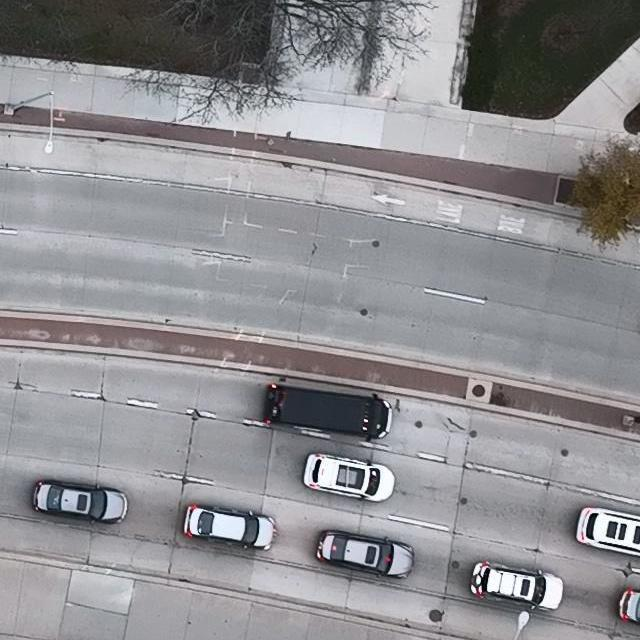car: (262, 383, 392, 437), (469, 560, 563, 611), (315, 530, 414, 577), (302, 453, 395, 503), (32, 478, 128, 524), (183, 505, 275, 550), (575, 505, 640, 557), (618, 588, 640, 624)
